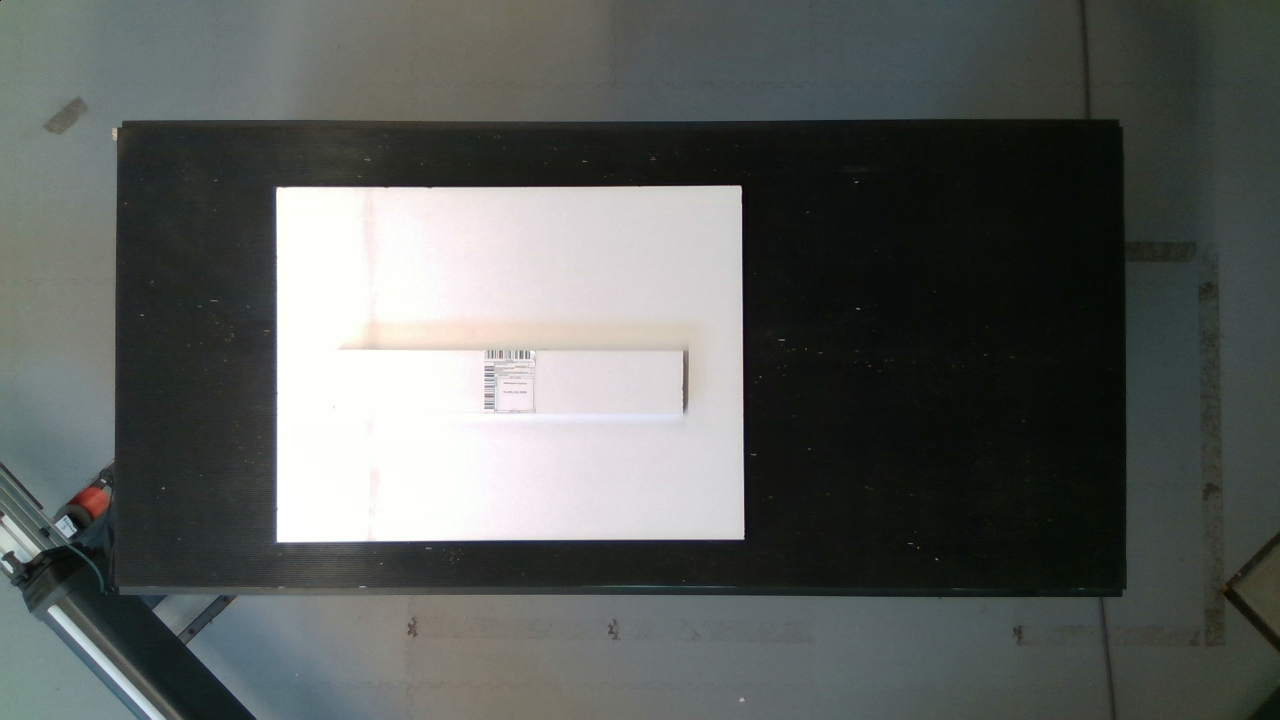barcode: (474, 348, 546, 415)
part1: (284, 344, 703, 433)
part2: (267, 174, 754, 547)
